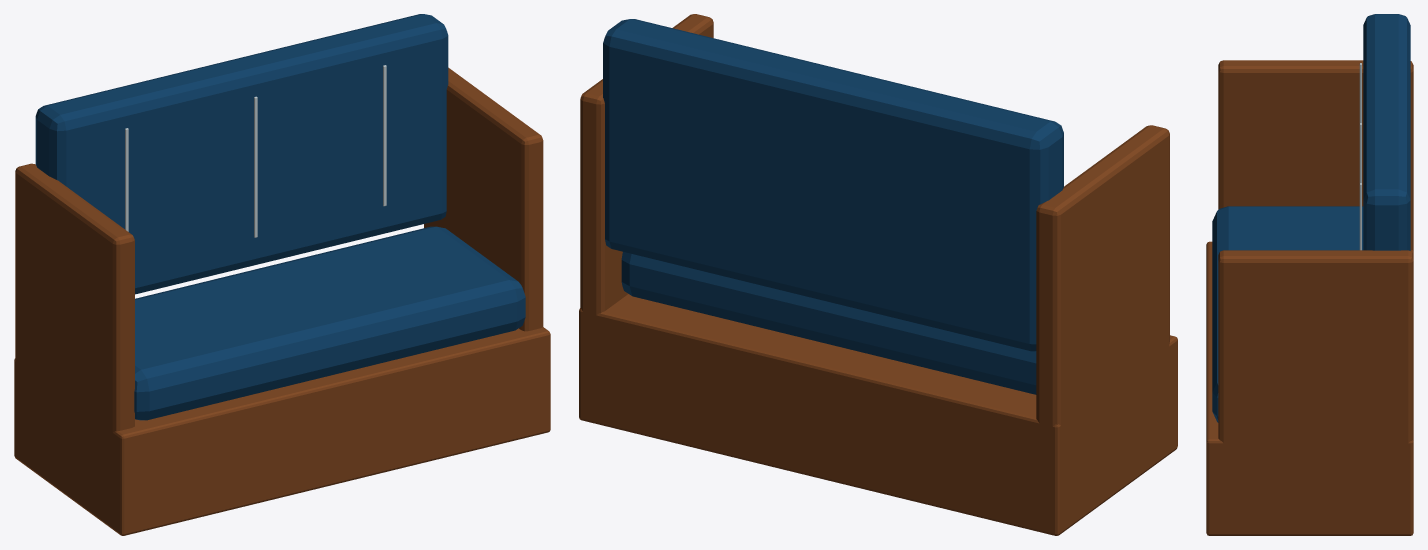
3 renders of one model, left to right at view 1: azimuth 30°, elevation 25°; view 2: azimuth 150°, elevation 25°; view 3: azimuth 270°, elevation 25°, orthographic. The views are drawn at different scales.
Parts seen in each view (by area): view 1: HIGHBACK, PLINTH, SEAT, END, END.001; view 2: HIGHBACK, PLINTH, END, SEAT, END.001; view 3: END.001, END, PLINTH, HIGHBACK, SEAT.
Part boxes in pixels (box(x1,y1,x2,y2)): HIGHBACK: box(35, 14, 448, 294); PLINTH: box(14, 327, 550, 535); SEAT: box(134, 226, 525, 420); END: box(15, 163, 134, 525); END.001: box(424, 67, 543, 331); HIGHBACK: box(603, 19, 1063, 351); PLINTH: box(579, 294, 1177, 535); END: box(1036, 125, 1169, 530); SEAT: box(621, 252, 1036, 394); END.001: box(580, 14, 713, 419); END.001: box(1218, 250, 1413, 532); END: box(1218, 60, 1413, 250); PLINTH: box(1206, 241, 1413, 535); HIGHBACK: box(1363, 14, 1410, 250); SEAT: box(1212, 206, 1363, 422).
Size of the model in its own units: 1.6 by 1.25 by 0.7.
